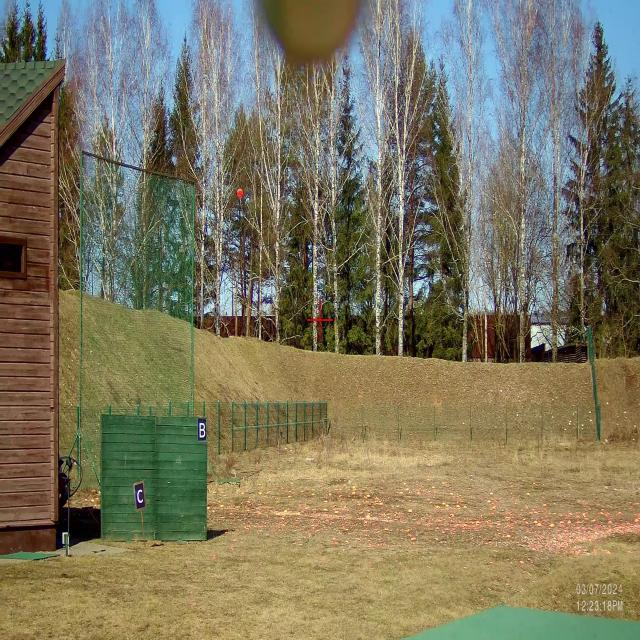entire: (233, 175, 249, 207)
